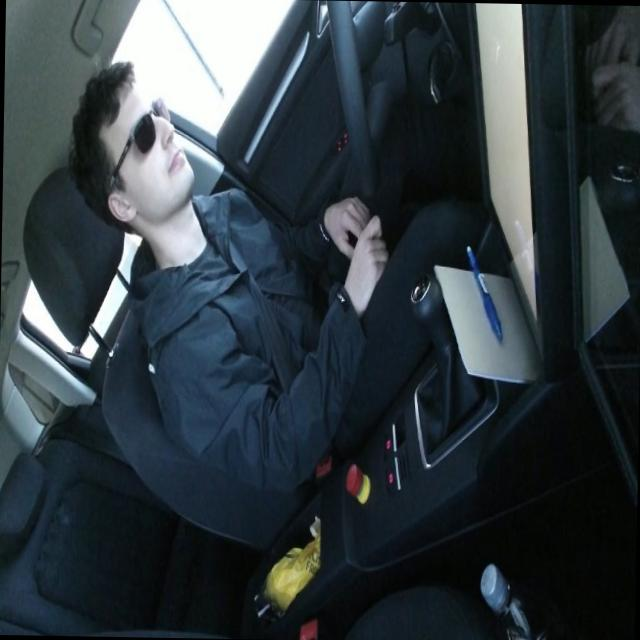pen: (463, 242, 504, 342)
